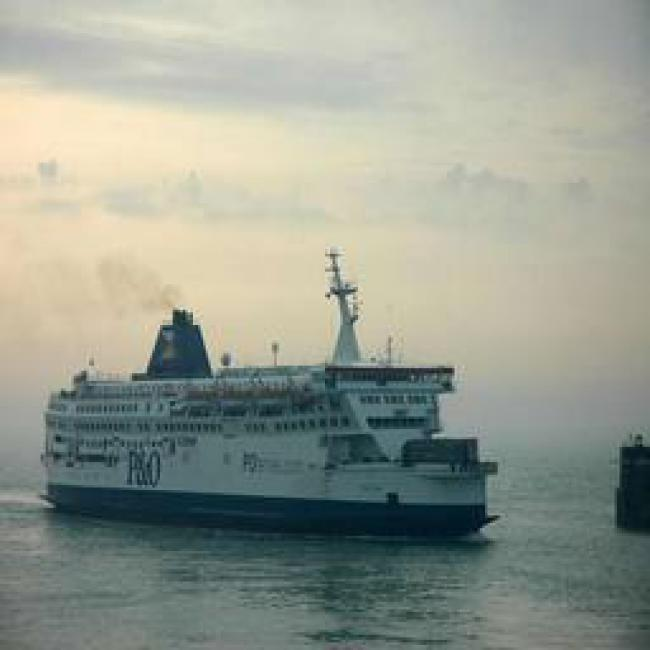Ship: (25, 354, 525, 567)
